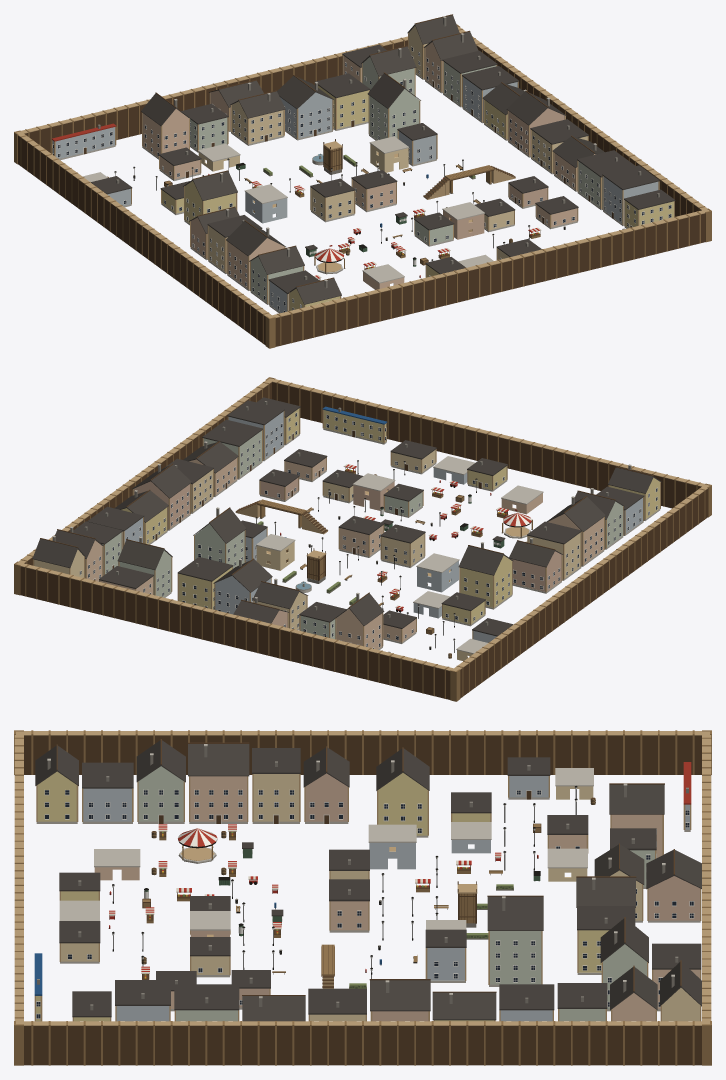
Rendered from cortejo.glb.
3 renders of one model, top to bottom at view 1: azimuth 30°, elevation 25°; view 2: azimuth 150°, elevation 25°; view 3: azimuth 270°, elevation 25°, orthographic. The views are drawn at different scales.
Parts seen in each view (by area): view 1: map_wood_dark.001, map_roof_slate.001, map_wood_light.001, map_wood.001, map_wall_2.001, map_wall_1.001, map_wall_3.001, map_stone.001, map_trim.001, map_wall_0.001, map_wall_4.001, map_glass.001 (+6 smaller); view 2: map_wood_dark.001, map_roof_slate.001, map_wood_light.001, map_wood.001, map_wall_4.001, map_wall_1.001, map_wall_2.001, map_stone.001, map_wall_0.001, map_trim.001, map_wall_3.001, map_wall_5.001 (+6 smaller); view 3: map_roof_slate.001, map_wood_dark.001, map_wood_light.001, map_wood.001, map_stone.001, map_wall_2.001, map_wall_1.001, map_wall_4.001, map_wall_0.001, map_wall_3.001, map_wall_5.001, map_trim.001 (+8 smaller).
Boxes of the visible parts, x1,y1,x2,y2 form: map_wood_dark.001: (18, 14, 705, 346); map_roof_slate.001: (91, 15, 675, 304); map_wood_light.001: (16, 26, 709, 318); map_wood.001: (14, 24, 711, 348); map_wall_2.001: (190, 57, 602, 302); map_wall_1.001: (142, 42, 595, 289); map_wall_3.001: (52, 77, 658, 312); map_stone.001: (59, 16, 627, 313); map_trim.001: (52, 46, 671, 311); map_wall_0.001: (208, 26, 587, 271); map_wall_4.001: (162, 85, 673, 310); map_glass.001: (53, 47, 671, 312); map_wood_dark.001: (20, 382, 707, 699); map_roof_slate.001: (32, 397, 661, 636); map_wood_light.001: (16, 378, 709, 671); map_wood.001: (14, 377, 711, 701); map_wall_4.001: (121, 408, 659, 624); map_wall_1.001: (85, 458, 603, 649); map_wall_2.001: (102, 430, 622, 639); map_stone.001: (52, 428, 660, 653); map_wall_0.001: (34, 450, 580, 629); map_trim.001: (79, 412, 657, 648); map_wall_3.001: (122, 411, 642, 642); map_wall_5.001: (134, 478, 561, 627); map_roof_slate.001: (35, 740, 701, 1021); map_wood_dark.001: (24, 735, 701, 1065); map_wood_light.001: (14, 731, 711, 1025); map_wood.001: (14, 730, 711, 1065); map_stone.001: (36, 744, 700, 1021); map_wall_2.001: (138, 766, 654, 1021); map_wall_1.001: (170, 776, 699, 1021); map_wall_4.001: (36, 771, 608, 1021); map_wall_0.001: (61, 774, 699, 1021); map_wall_3.001: (83, 776, 689, 1021); map_wall_5.001: (239, 773, 699, 1021); map_trim.001: (36, 789, 694, 1021).
Bounding box in the file's own units: 160 × 21.26 × 160.
